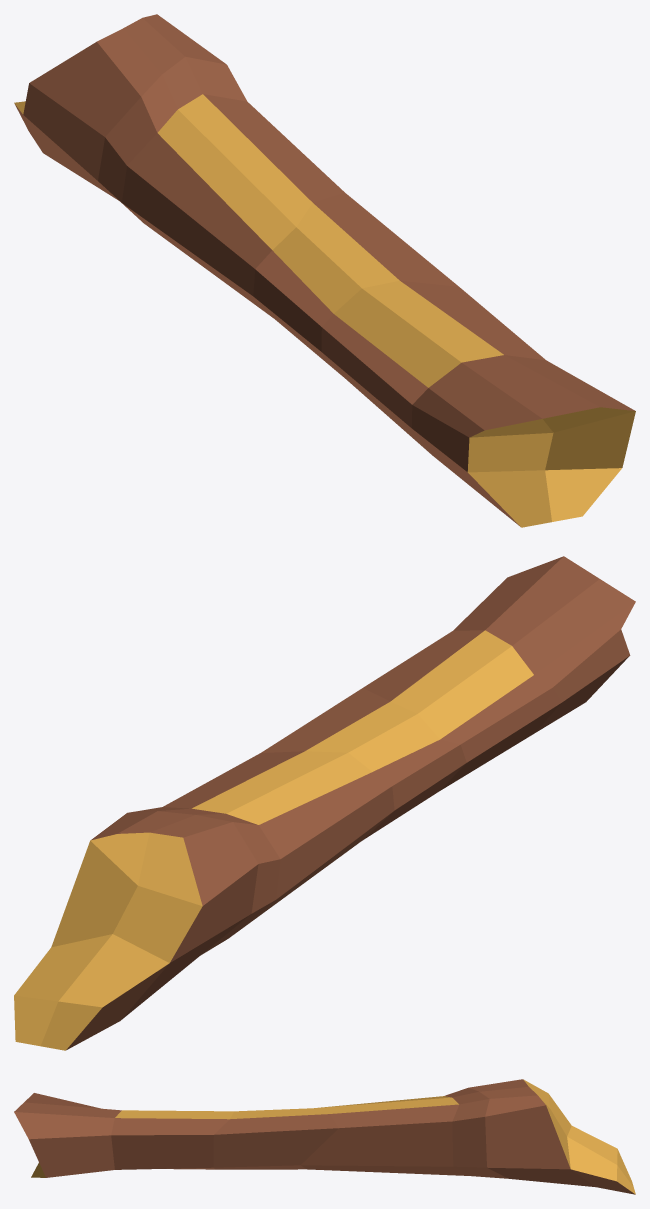
The model's file is log_3.fbx.
3 views of the same model, one above another, from view 1: azimuth 30°, elevation 25°; view 2: azimuth 150°, elevation 25°; view 3: azimuth 270°, elevation 25° (orthographic). The views are drawn at different scales.
Visible parts, largest first — view 1: log_3; view 2: log_3; view 3: log_3.
Part boxes in pixels (<box>): log_3: <box>14,14,635,527</box>; log_3: <box>14,556,635,1050</box>; log_3: <box>14,1079,635,1194</box>.
Size of the model in its own units: 88.11 by 89.02 by 531.
